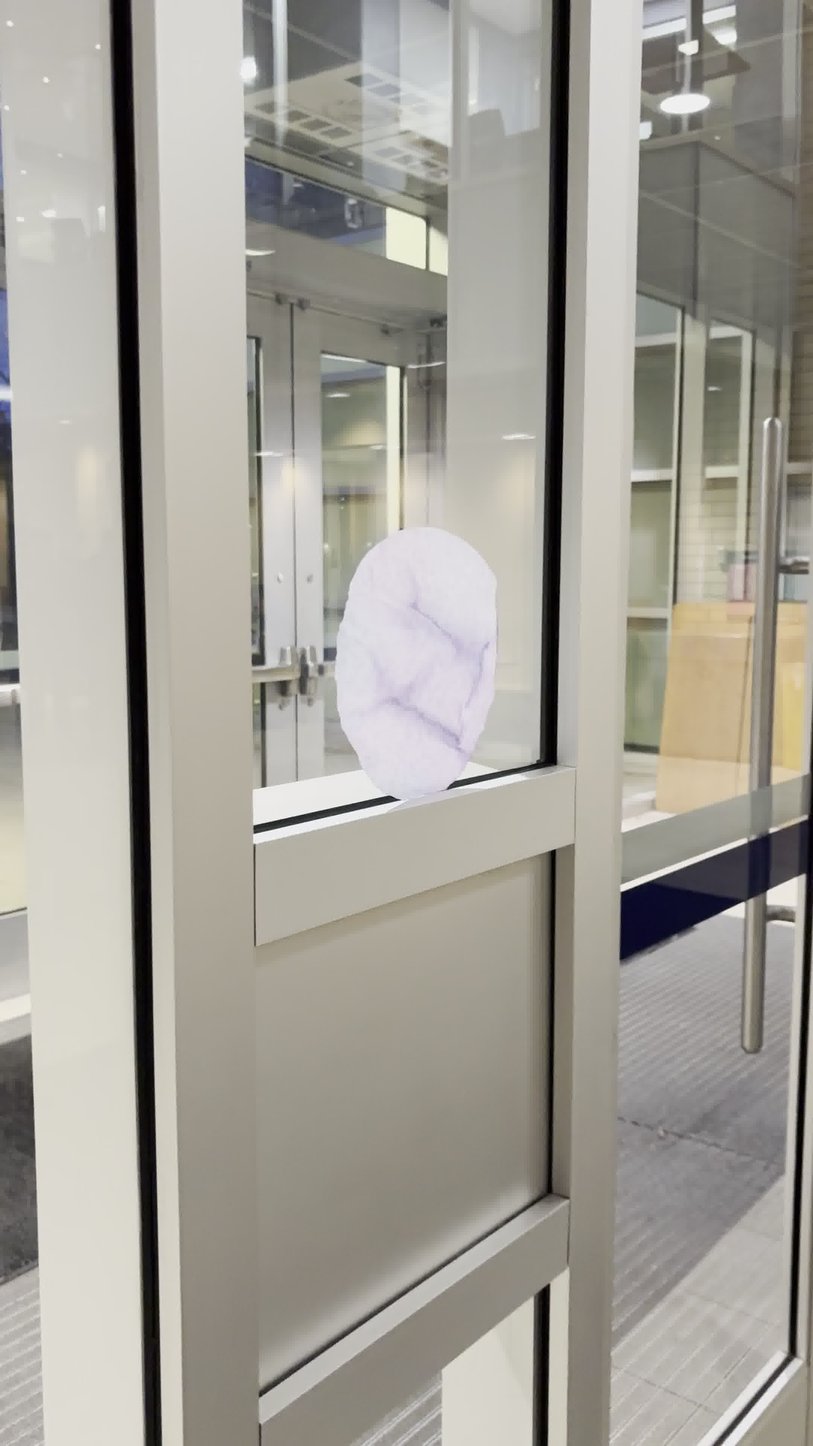Target: (333, 527, 498, 800)
